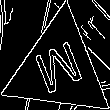M_SE: (30, 36, 88, 101)
